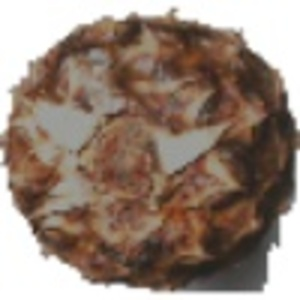abacaxi: (2, 18, 295, 289)
